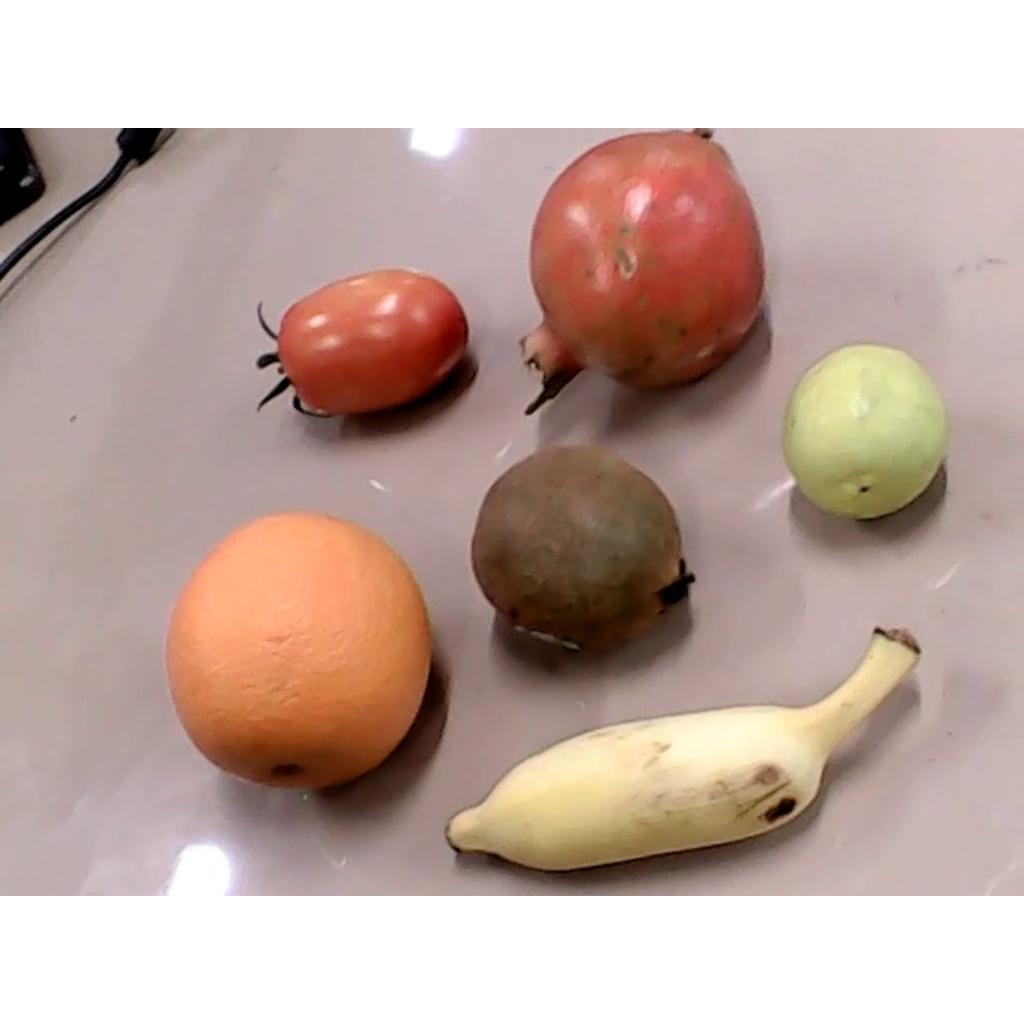kiwi: (469, 444, 697, 653)
lemon: (783, 343, 947, 522)
orange: (161, 513, 433, 791)
pomegranate: (518, 129, 765, 414)
tomato: (255, 268, 468, 420)
